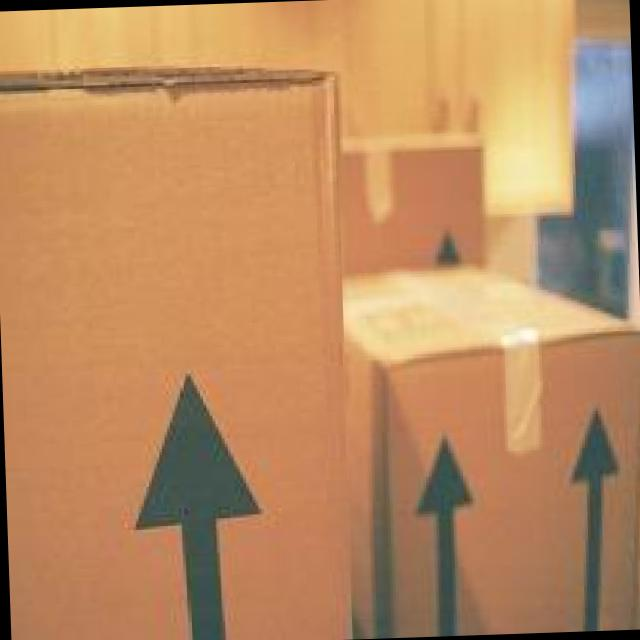box: (1, 63, 350, 640), (340, 262, 639, 640), (335, 132, 488, 276)
